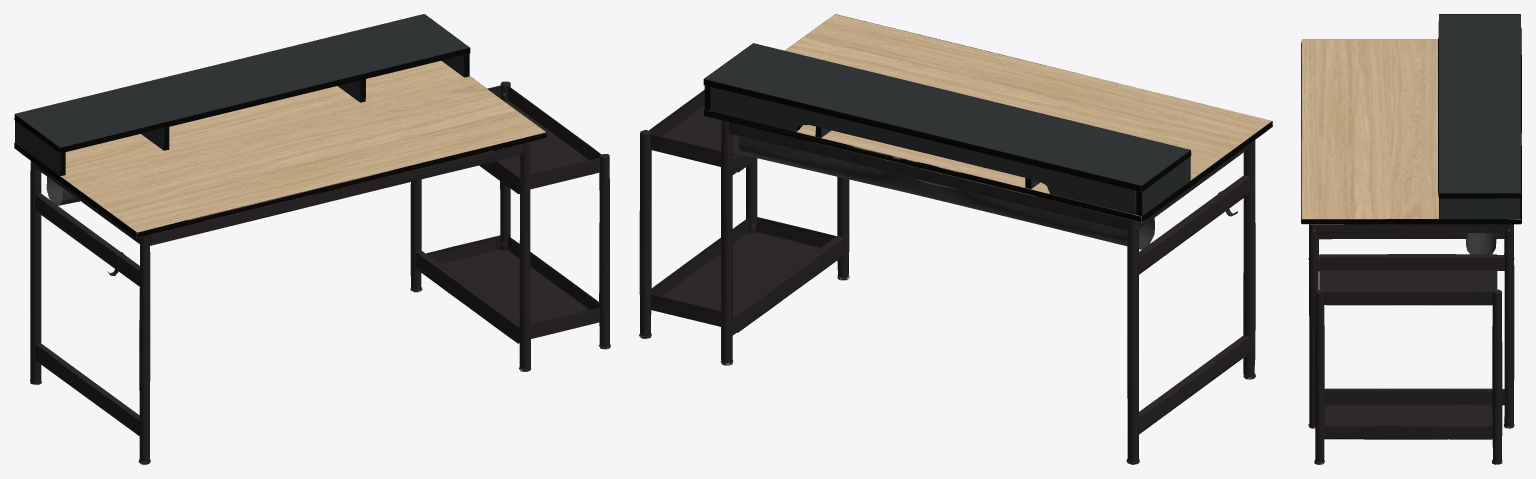
Rendered from 25 - MULLSJÖ Desk - oak veneer 135x70 cm.glb.
3 renders of one model, left to right at view 1: azimuth 30°, elevation 25°; view 2: azimuth 150°, elevation 25°; view 3: azimuth 270°, elevation 25°, orthographic. The views are drawn at different scales.
Parts seen in each view (by area): view 1: model; view 2: model; view 3: model.
Boxes of the visible parts, x1=… form: model: x1=14, y1=14, x2=610, y2=464; model: x1=639, y1=14, x2=1272, y2=464; model: x1=1301, y1=14, x2=1521, y2=464.
Size of the model in its own units: 1.59 by 0.8405 by 0.7012.
1 material, 1 textured.
